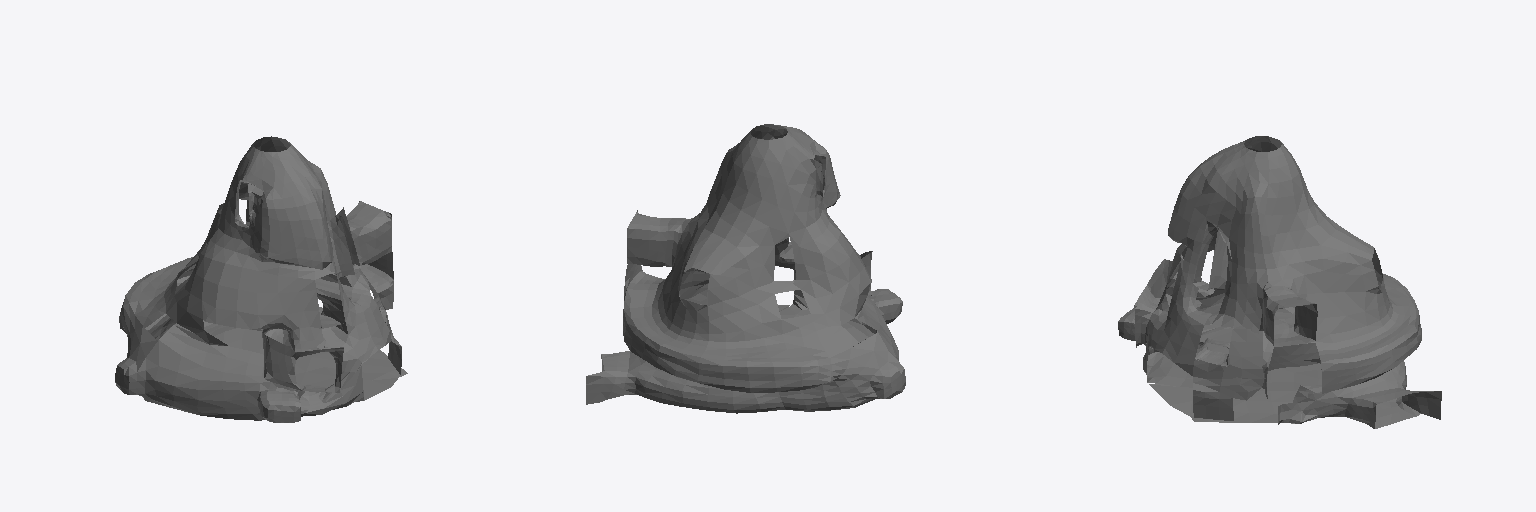
The model's file is Env_1v3_WIPer.OBJ.
3 views of the same model, side by side, from view 1: azimuth 30°, elevation 25°; view 2: azimuth 150°, elevation 25°; view 3: azimuth 270°, elevation 25° (orthographic).
Visible parts, largest first — view 1: Env_1v3_WIP1:Group2; view 2: Env_1v3_WIP1:Group2; view 3: Env_1v3_WIP1:Group2.
Boxes of the visible parts, x1=… form: Env_1v3_WIP1:Group2: x1=115, y1=136, x2=407, y2=422; Env_1v3_WIP1:Group2: x1=586, y1=124, x2=905, y2=413; Env_1v3_WIP1:Group2: x1=1118, y1=136, x2=1441, y2=428.
Size of the model in its own units: 172 by 143 by 180.